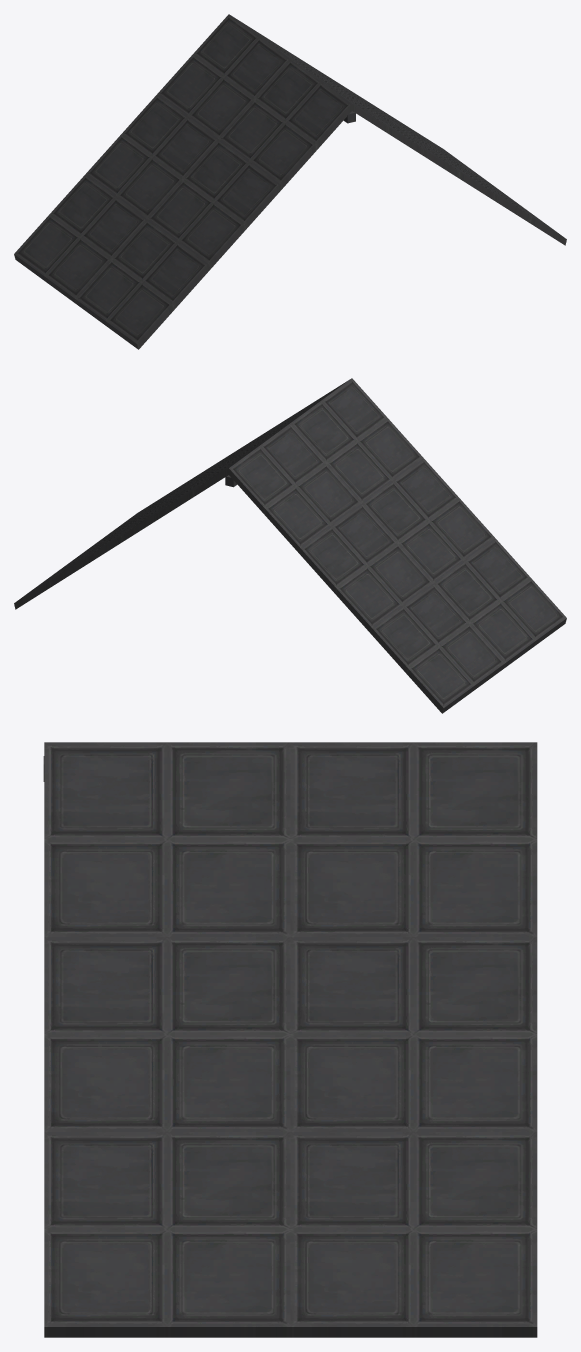
File: Homeworld_Interior_Dq_Room_Ceiling_02_Vo.fbx
3 views of the same model, one above another, from view 1: azimuth 30°, elevation 25°; view 2: azimuth 150°, elevation 25°; view 3: azimuth 270°, elevation 25° (orthographic). The views are drawn at different scales.
Parts seen in each view (by area): view 1: Homeworld_Interior_Dq_Room_Ceiling_02_Vo; view 2: Homeworld_Interior_Dq_Room_Ceiling_02_Vo; view 3: Homeworld_Interior_Dq_Room_Ceiling_02_Vo.
Boxes of the visible parts, x1,y1,x2,y2 form: Homeworld_Interior_Dq_Room_Ceiling_02_Vo: [14, 14, 566, 349]; Homeworld_Interior_Dq_Room_Ceiling_02_Vo: [14, 378, 566, 713]; Homeworld_Interior_Dq_Room_Ceiling_02_Vo: [43, 742, 537, 1337].
Size of the model in its own units: 10.07 by 4.34 by 5.01.
